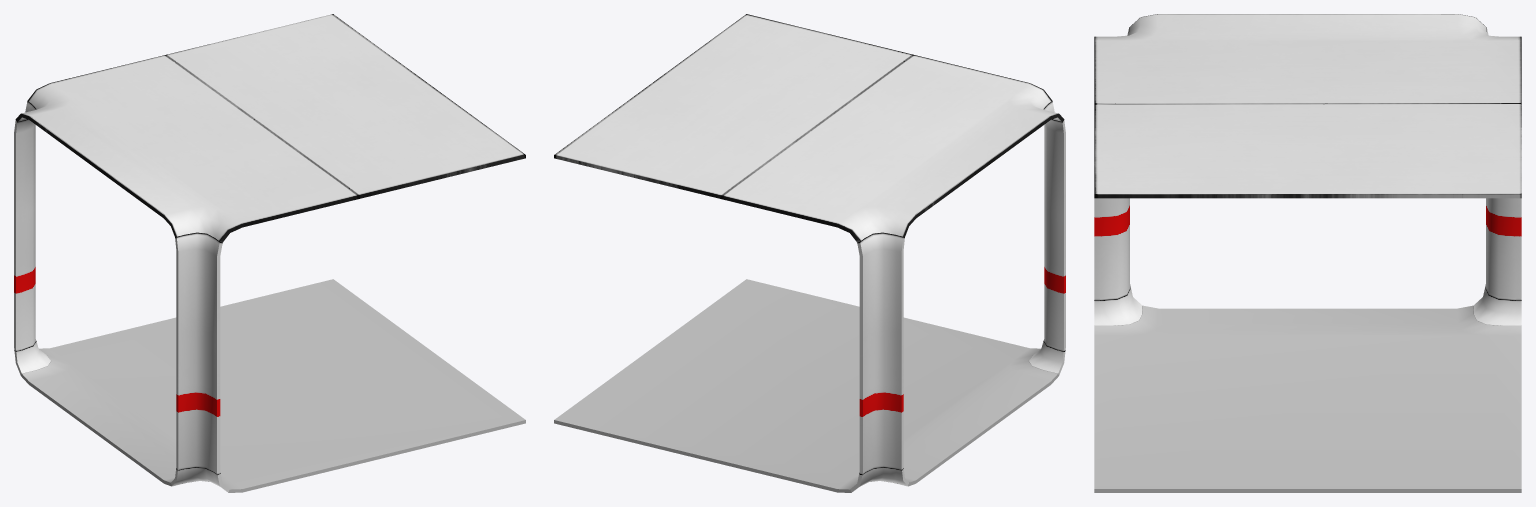
File: Room_Entrence_001.FBX
The picture shows the model from 3 angles, left to right: view 1: azimuth 30°, elevation 25°; view 2: azimuth 150°, elevation 25°; view 3: azimuth 270°, elevation 25°; orthographic projection. The views are drawn at different scales.
Visible parts, largest first — view 1: Room_Entrence_001; view 2: Room_Entrence_001; view 3: Room_Entrence_001.
Boxes of the visible parts, x1,y1,x2,y2 form: Room_Entrence_001: [14, 14, 525, 492]; Room_Entrence_001: [554, 14, 1065, 492]; Room_Entrence_001: [1094, 14, 1521, 492].
Size of the model in its own units: 3 by 2.31 by 3.
